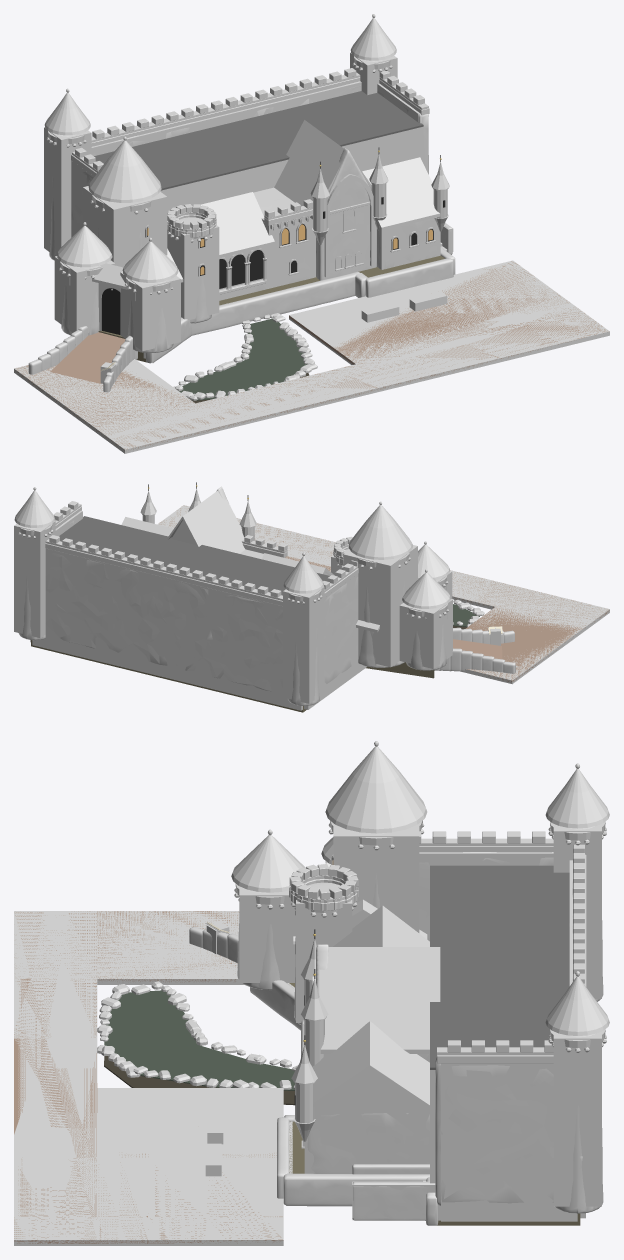
Rendered from MZ_stadje.fbx.
The picture shows the model from 3 angles, top to bottom: view 1: azimuth 30°, elevation 25°; view 2: azimuth 150°, elevation 25°; view 3: azimuth 270°, elevation 25°; orthographic projection. The views are drawn at different scales.
Visible parts, largest first — view 1: static__TEX_pannen_0, COLL_23, static__MAT_klinker_0, static__MAT_dakplat_0, static__TEX_stuc_5, COLL_22, static__TEX_natuursteen_0, static__TEX_stuc_4, COLL_24, static__MAT_water_0, static__TEX_stuc_3, COLL_8 (+15 smaller); view 2: COLL_18, static__TEX_stuc_5, static__TEX_pannen_0, static__TEX_stuc_4, static__MAT_dakplat_0, COLL_23, static__MAT_klinker_0, COLL_8, COLL_20, COLL_21, COLL_7, COLL_17 (+8 smaller); view 3: static__TEX_pannen_0, COLL_23, static__MAT_dakplat_0, COLL_22, static__TEX_stuc_5, COLL_19, static__MAT_klinker_0, static__TEX_natuursteen_0, COLL_24, COLL_25, static__MAT_water_0, COLL_21 (+14 smaller).
Part boxes in pixels (x1=…): static__TEX_pannen_0: x1=44, y1=18, x2=449, y2=289; COLL_23: x1=95, y1=309, x2=609, y2=453; static__MAT_klinker_0: x1=15, y1=261, x2=609, y2=450; static__MAT_dakplat_0: x1=94, y1=91, x2=423, y2=190; static__TEX_stuc_5: x1=71, y1=68, x2=429, y2=214; COLL_22: x1=289, y1=260, x2=561, y2=354; static__TEX_natuursteen_0: x1=145, y1=242, x2=455, y2=400; static__TEX_stuc_4: x1=71, y1=81, x2=452, y2=280; COLL_24: x1=14, y1=359, x2=194, y2=431; static__MAT_water_0: x1=179, y1=318, x2=306, y2=400; static__TEX_stuc_3: x1=219, y1=194, x2=437, y2=294; COLL_8: x1=83, y1=186, x2=167, y2=267; COLL_18: x1=32, y1=548, x2=302, y2=710; static__TEX_stuc_5: x1=45, y1=501, x2=358, y2=691; static__TEX_pannen_0: x1=14, y1=488, x2=450, y2=632; static__TEX_stuc_4: x1=45, y1=486, x2=358, y2=691; static__MAT_dakplat_0: x1=59, y1=516, x2=329, y2=595; COLL_23: x1=158, y1=505, x2=609, y2=631; static__MAT_klinker_0: x1=159, y1=505, x2=609, y2=682; COLL_8: x1=343, y1=545, x2=417, y2=667; COLL_20: x1=283, y1=586, x2=324, y2=703; COLL_21: x1=14, y1=521, x2=55, y2=638; COLL_7: x1=399, y1=599, x2=452, y2=668; COLL_17: x1=304, y1=574, x2=366, y2=709; static__TEX_pannen_0: x1=231, y1=746, x2=609, y2=1109; COLL_23: x1=14, y1=911, x2=97, y2=1245; static__MAT_dakplat_0: x1=430, y1=865, x2=569, y2=1069; COLL_22: x1=148, y1=1088, x2=283, y2=1245; static__TEX_stuc_5: x1=419, y1=831, x2=586, y2=1206; COLL_19: x1=441, y1=1063, x2=577, y2=1221; static__MAT_klinker_0: x1=14, y1=911, x2=283, y2=1243; static__TEX_natuursteen_0: x1=97, y1=980, x2=438, y2=1225; COLL_24: x1=97, y1=911, x2=243, y2=984; COLL_25: x1=97, y1=1088, x2=148, y2=1245; static__MAT_water_0: x1=104, y1=990, x2=294, y2=1090; COLL_21: x1=553, y1=1031, x2=601, y2=1206.
Bounding box in the file's own units: 29 × 12.76 × 22.2.
